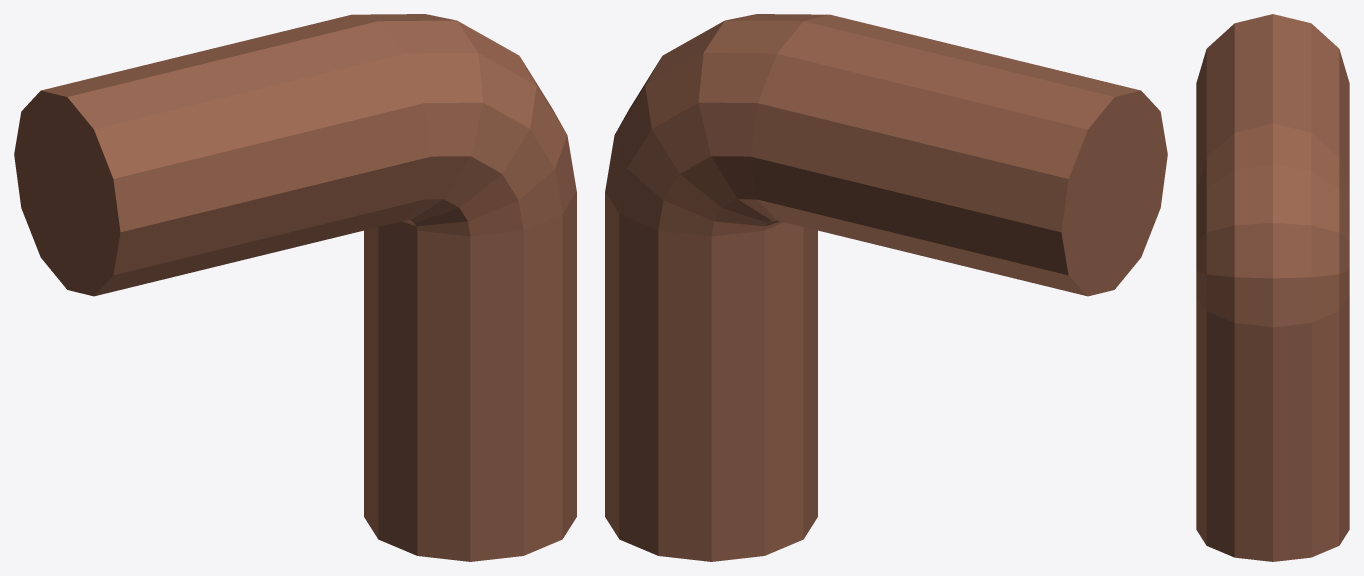
Rendered from Wh_Heatpipe_Curved.fbx.
3 renders of one model, left to right at view 1: azimuth 30°, elevation 25°; view 2: azimuth 150°, elevation 25°; view 3: azimuth 270°, elevation 25°, orthographic. The views are drawn at different scales.
Visible parts, largest first — view 1: Cylinder.002; view 2: Cylinder.002; view 3: Cylinder.002.
Boxes of the visible parts, x1,y1,x2,y2 form: Cylinder.002: [14, 14, 576, 561]; Cylinder.002: [605, 14, 1167, 561]; Cylinder.002: [1196, 14, 1349, 561].
Bounding box in the file's own units: 200 × 200 × 74.4.
